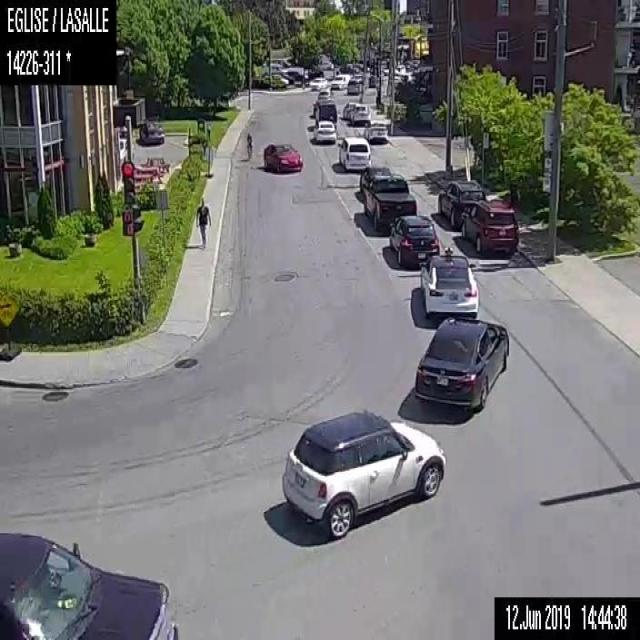cyclist: (245, 131, 252, 160)
pedestrian: (194, 197, 211, 251)
vehicle: (279, 406, 447, 538), (0, 529, 179, 639), (415, 316, 509, 408), (418, 250, 480, 318), (361, 173, 418, 234), (459, 198, 519, 253), (386, 212, 439, 269), (434, 176, 486, 229), (336, 133, 371, 171), (262, 142, 303, 174), (136, 120, 164, 146), (311, 119, 337, 144), (362, 119, 387, 144), (312, 98, 337, 120), (348, 102, 370, 124), (346, 75, 364, 94), (329, 72, 349, 88), (342, 102, 360, 118), (316, 87, 334, 100), (308, 75, 326, 86), (318, 58, 333, 70)
